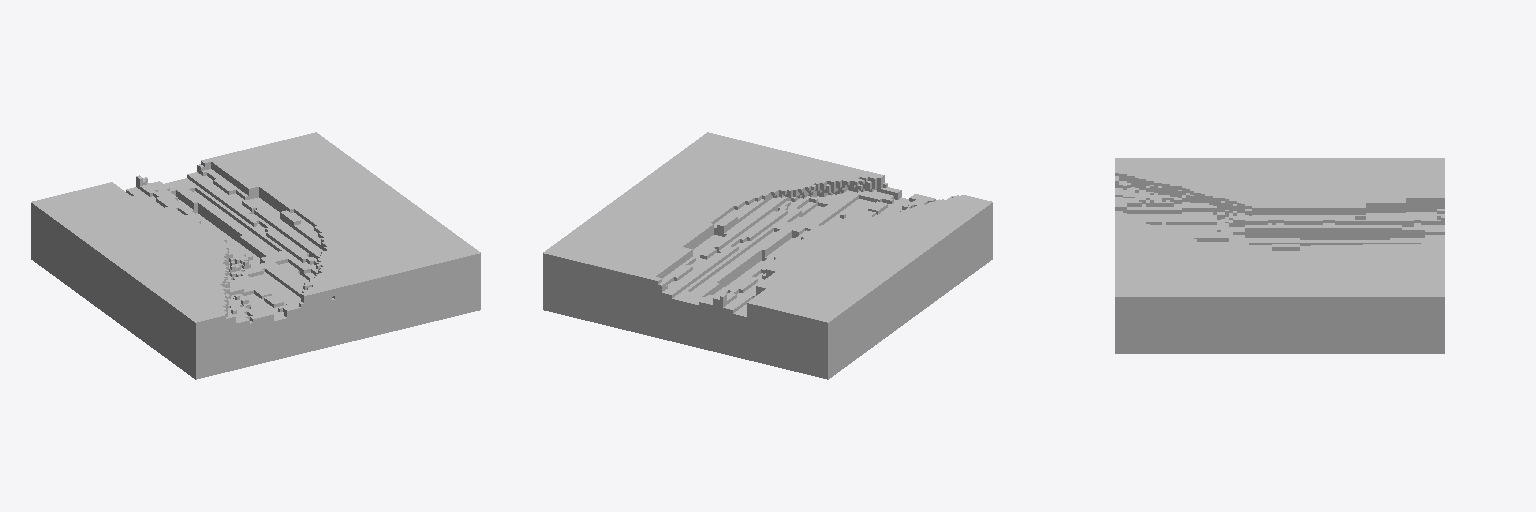
Rendered from rio curvo.obj.
The picture shows the model from 3 angles: view 1: azimuth 30°, elevation 25°; view 2: azimuth 150°, elevation 25°; view 3: azimuth 270°, elevation 25°; orthographic projection.
Parts seen in each view (by area): view 1: object 1; view 2: object 1; view 3: object 1.
Boxes of the visible parts, x1,y1,x2,y2 form: object 1: [31, 132, 480, 379]; object 1: [543, 132, 992, 379]; object 1: [1115, 158, 1444, 353].
Bounding box in the file's own units: 8.4 × 1.6 × 8.4.